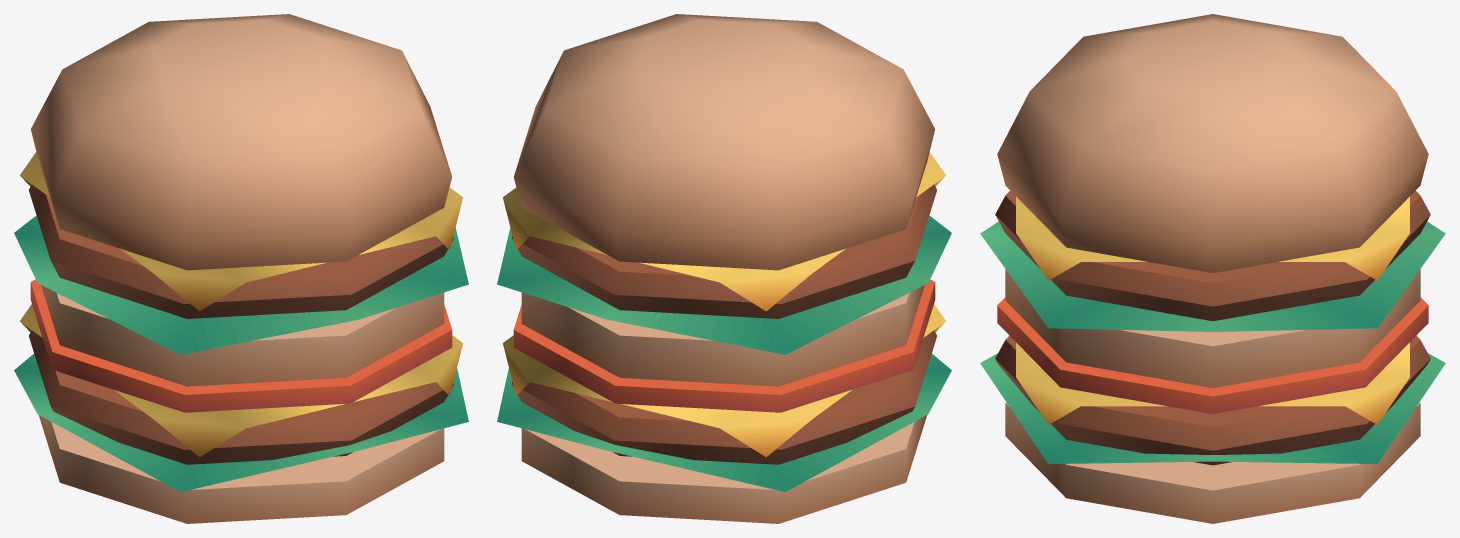
The model's file is burger-double.glb.
3 renders of one model, left to right at view 1: azimuth 30°, elevation 25°; view 2: azimuth 150°, elevation 25°; view 3: azimuth 270°, elevation 25°, orthographic.
Visible parts, largest first — view 1: dish; view 2: dish; view 3: dish.
Boxes of the visible parts, <box> form: dish: <box>14,14,468,523</box>; dish: <box>497,14,951,523</box>; dish: <box>980,14,1445,523</box>.
Bounding box in the file's own units: 0.1245 × 0.1109 × 0.1245.
Materials: 1 (1 with a texture image).
